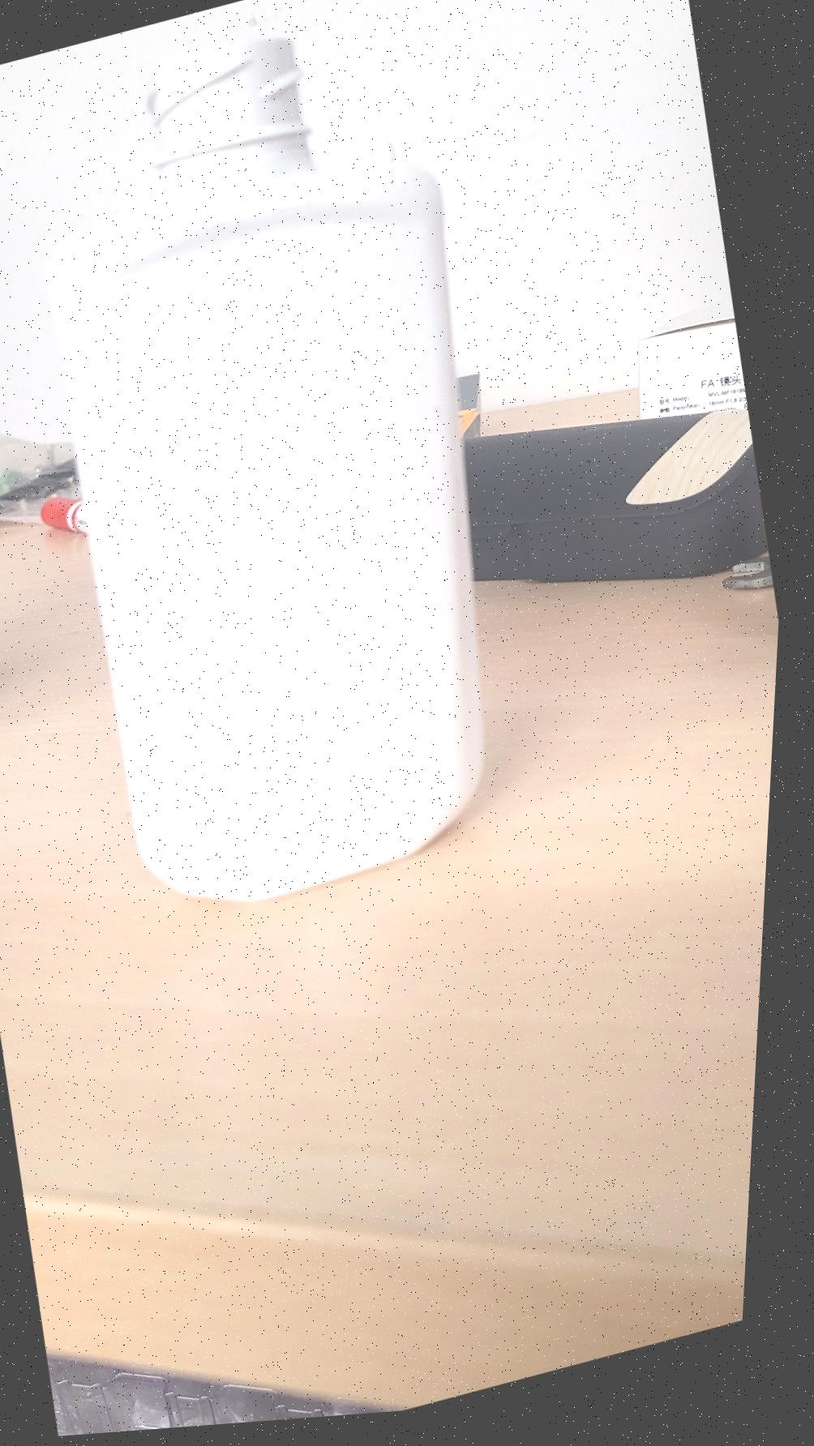bottle: (47, 37, 483, 901)
